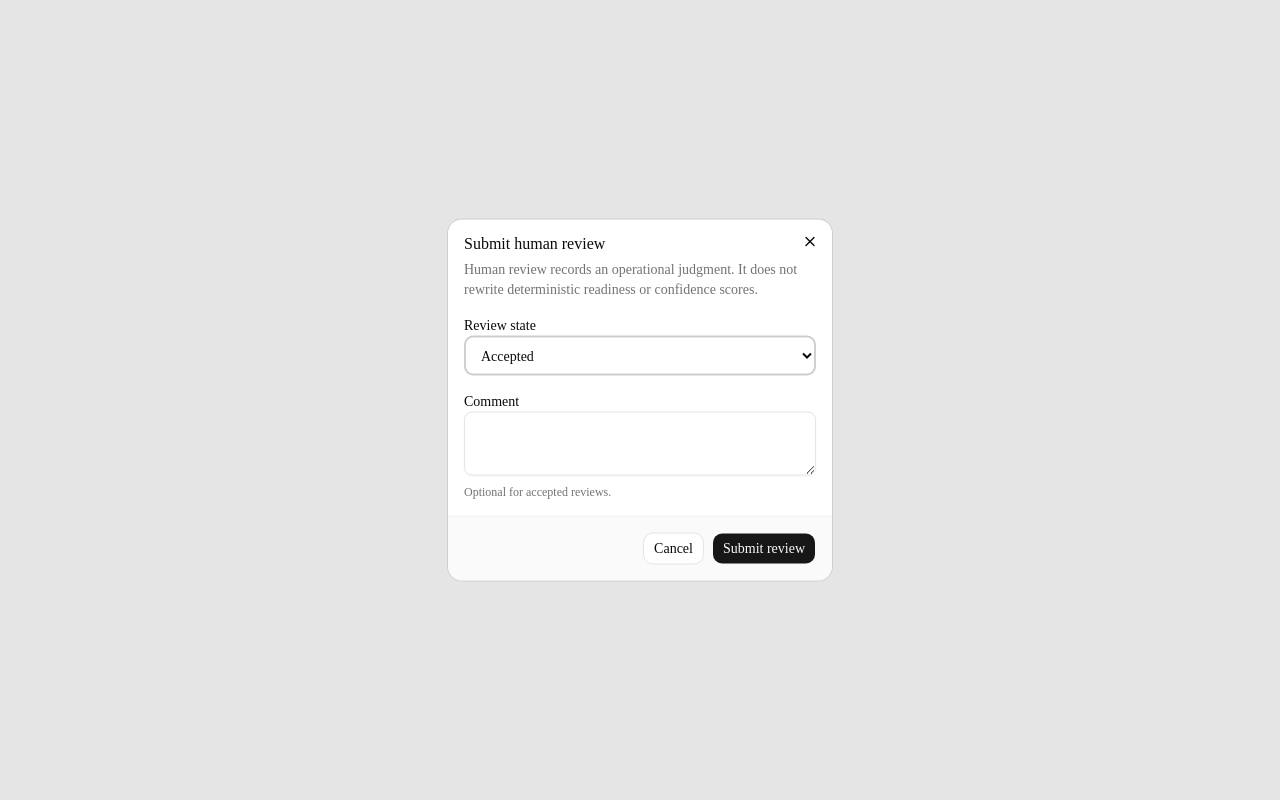
Test: ReviewDialog validation › requires override reason for overridden state
This screenshot has width=1280, height=800.
Select "Overridden" in the dropdown labelled "Review state": (640, 356) [464,336,816,376]
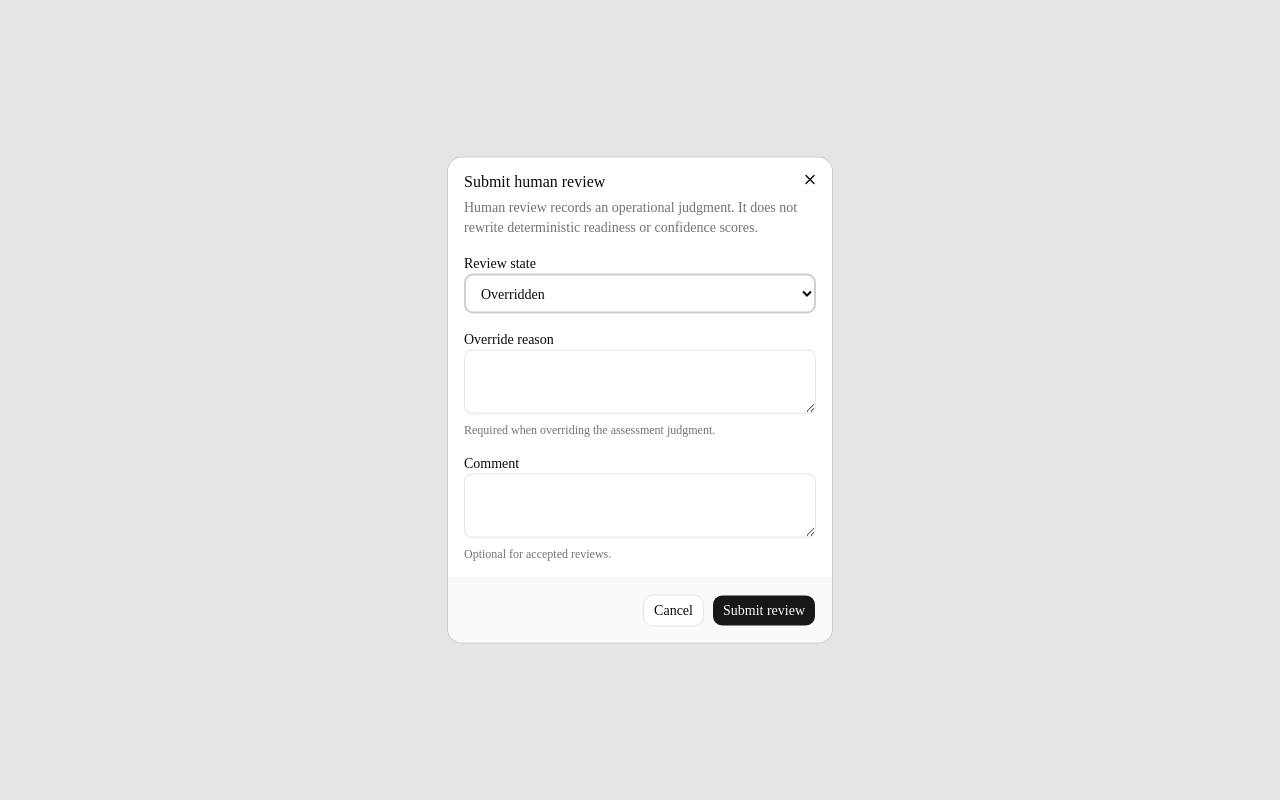
Click the button "Submit review": click(764, 610) [712,594,816,626]
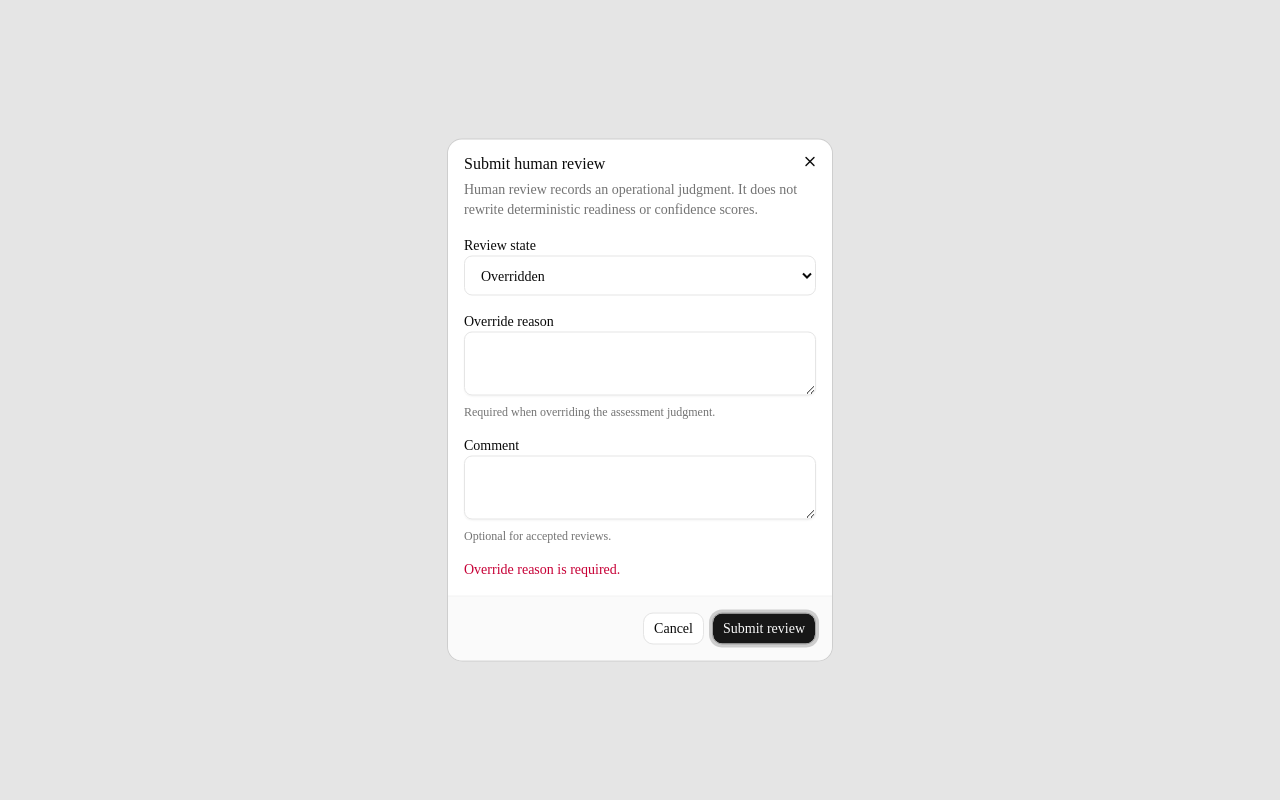
Now the message shows "Override reason", box [464,562,620,576]
